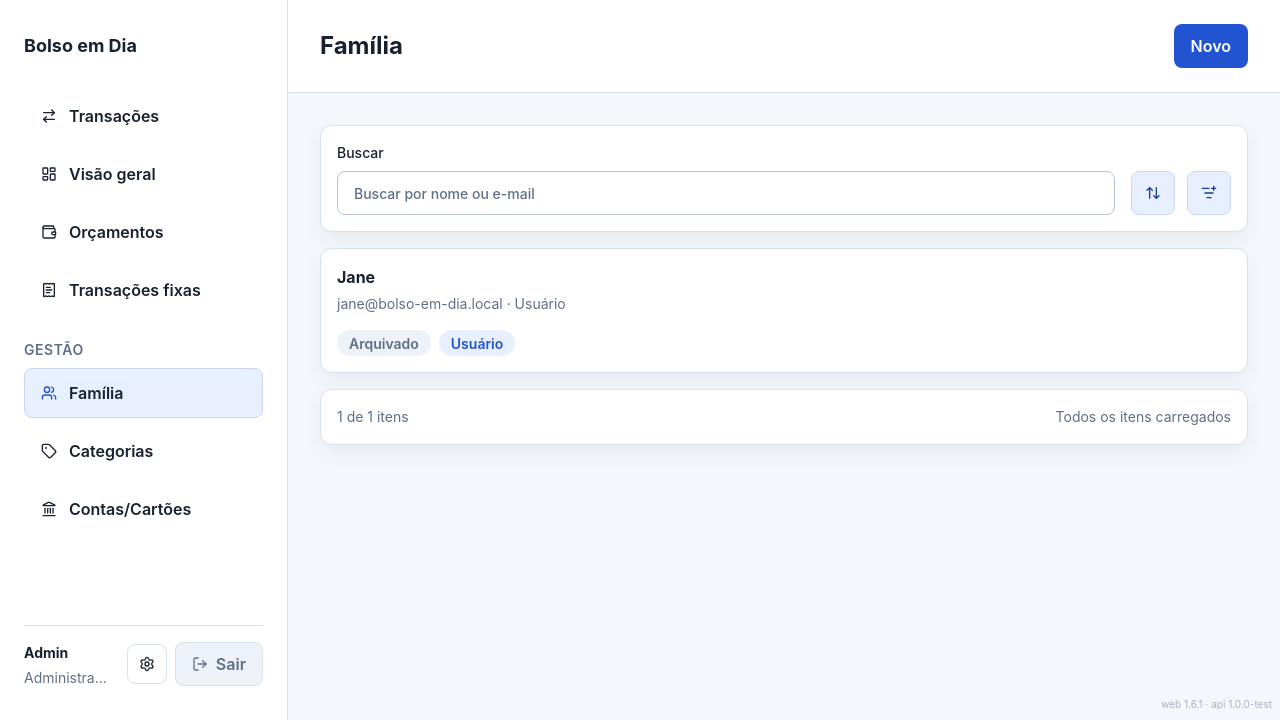
it: FamilyPage › opens "Reativar membro" confirmation for an inactive member
The image size is (1280, 720).
Expected: the text "Jane" is shown, [337,267,375,287]
What coordinates should you click on to do the following:
click the button "Jane jane@bolso-em-dia.local · Usuário Arquivado Usuário"
I would click on:
 (356, 277)
Its box is [337,265,1231,356].
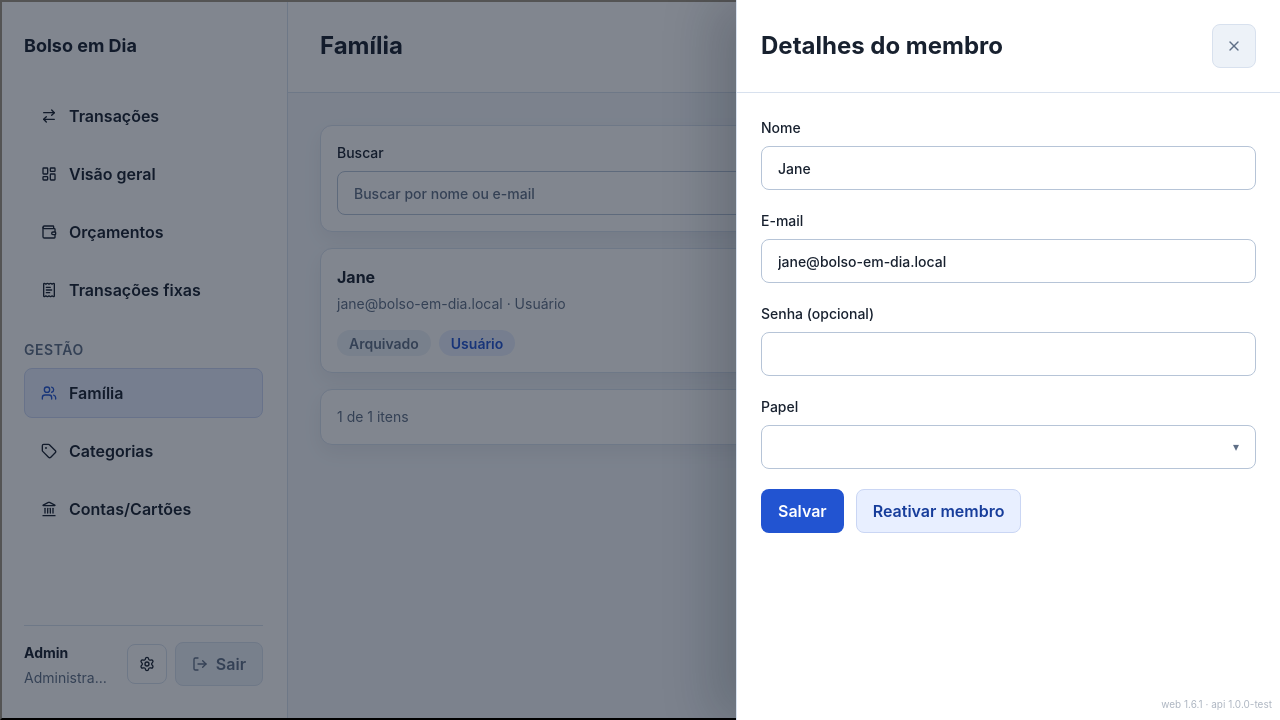
What coordinates should you click on to do the following:
click the button "Reativar membro"
I would click on:
 (939, 511)
Its box is [856,489,1021,533].
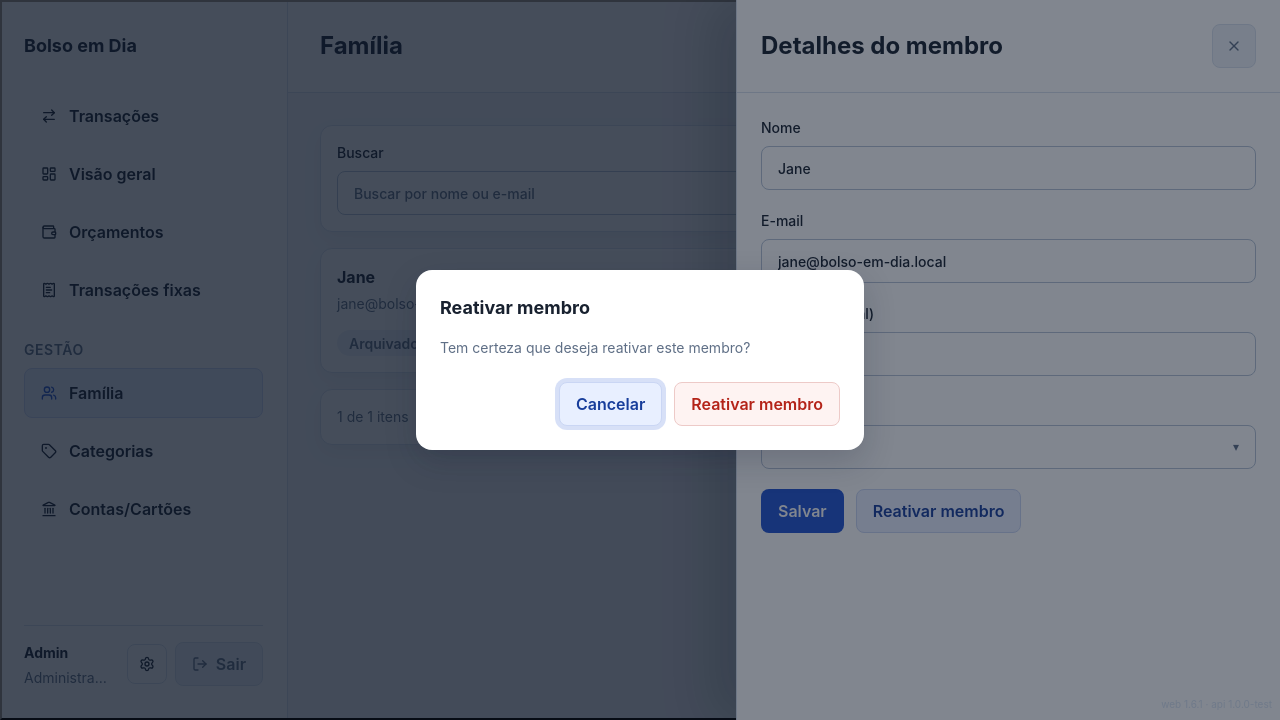
Expected: the dialog is shown, [416,270,864,450]
Expected: the text "Tem certeza que deseja reativar este membro?" is shown, [440,339,750,356]
